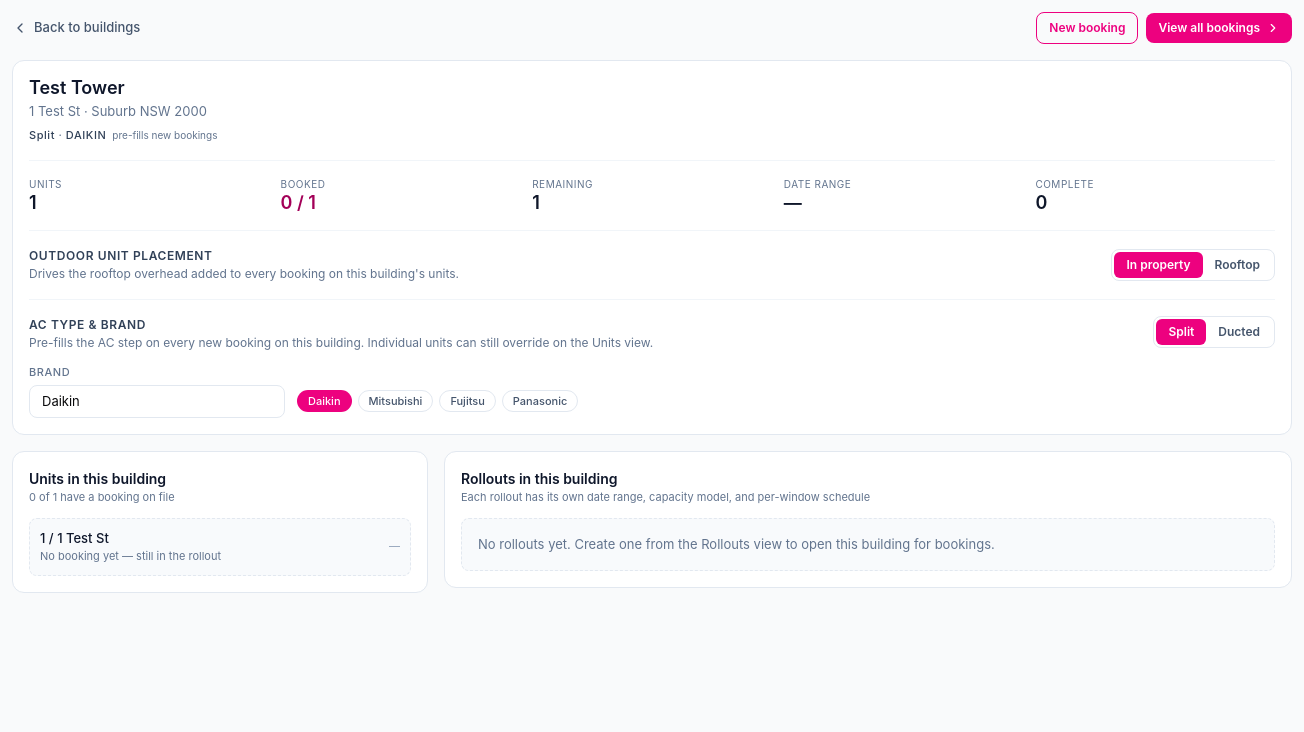
Test case: BuildingDetail · AC type & brand editor (Task #110 follow-up) › clicking a suggestion chip commits that brand
Click the button "Mitsubishi". click: click(395, 401)
box: [358, 390, 433, 412]
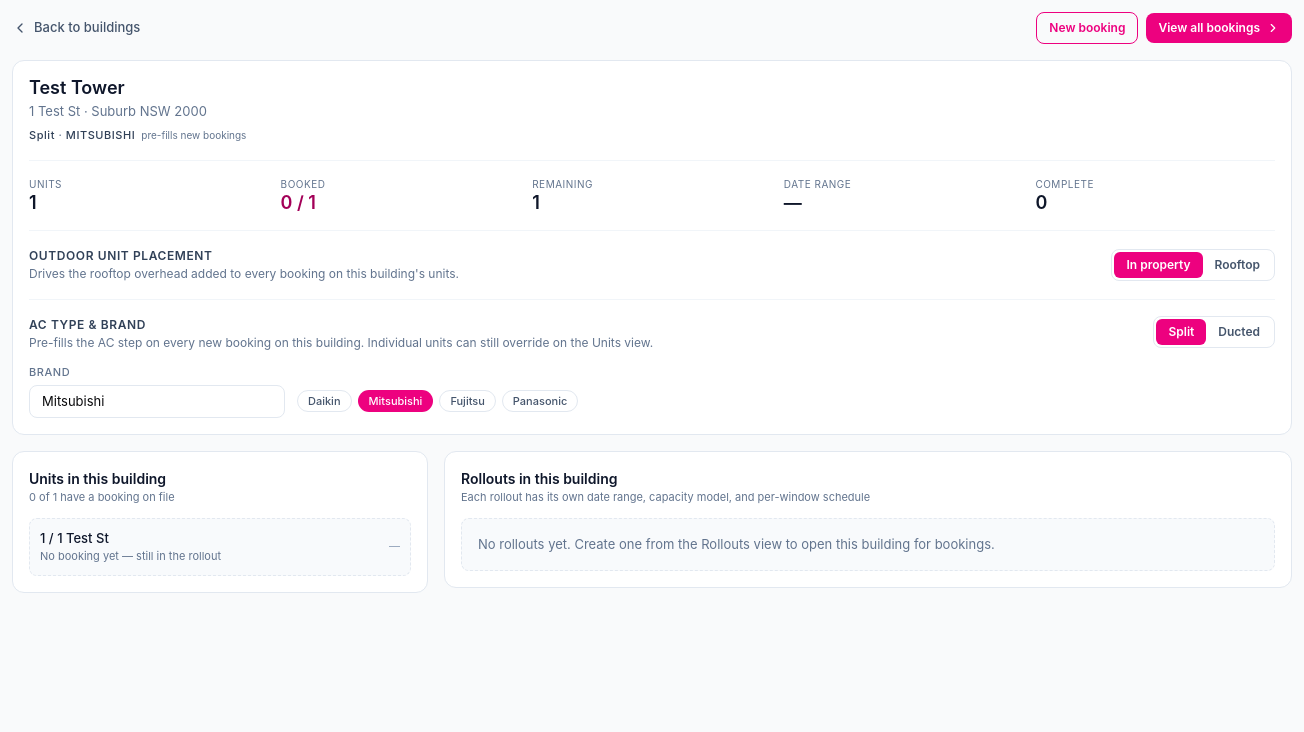
Result: the field named "AC brand" holds "Mitsubishi" at [29, 384, 285, 418]
